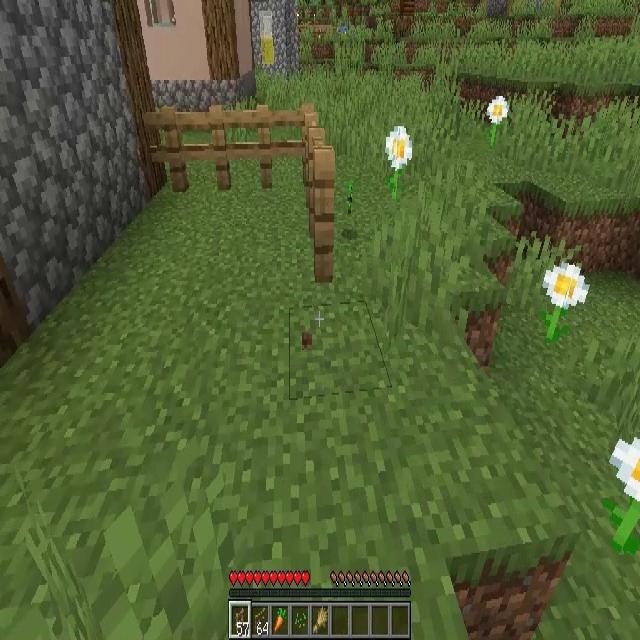flower: (544, 262, 590, 340), (611, 434, 640, 546), (386, 127, 411, 197), (487, 94, 508, 147)
